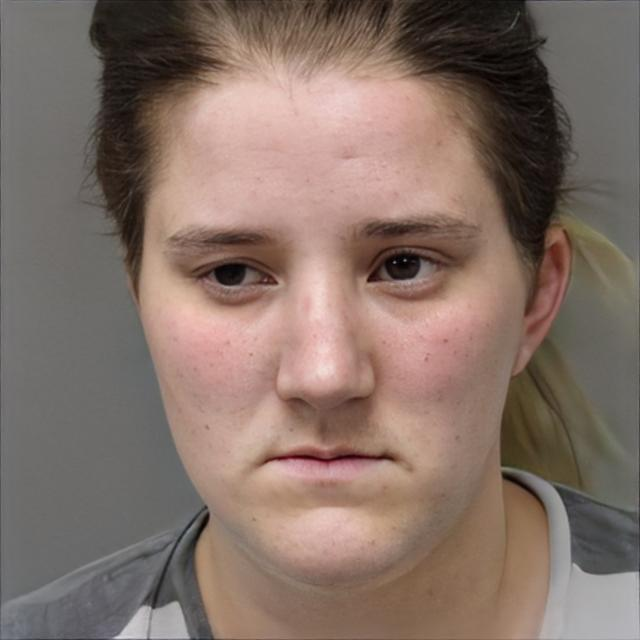sad: (135, 70, 532, 590)
